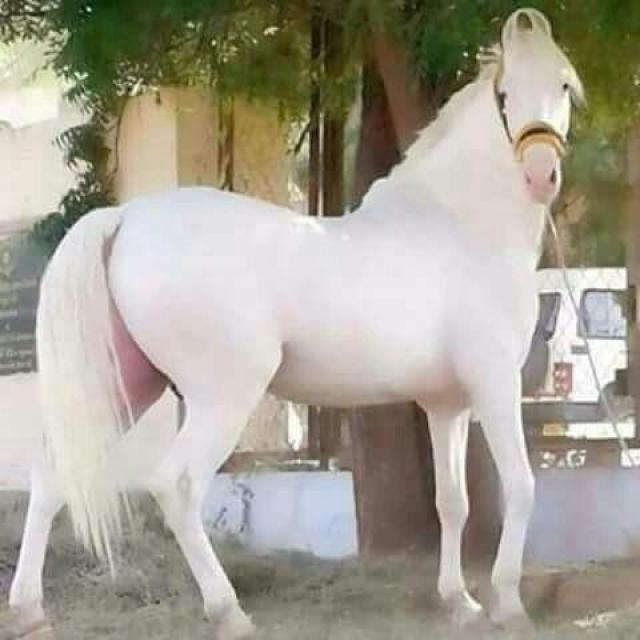horse: (5, 5, 588, 639)
